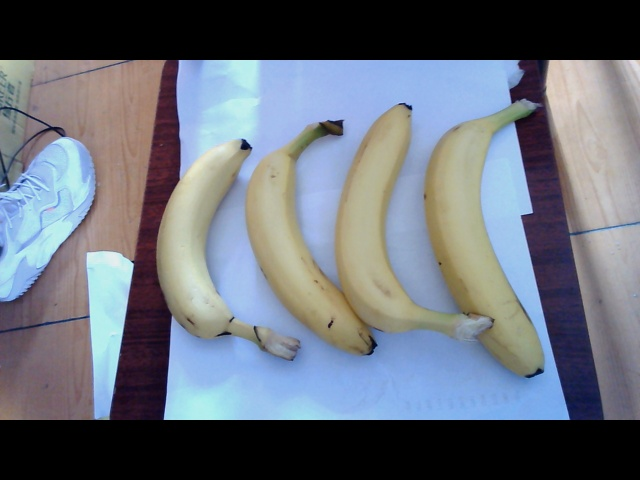banana: (422, 99, 551, 390), (246, 113, 338, 365), (339, 97, 429, 348), (150, 135, 240, 359)
